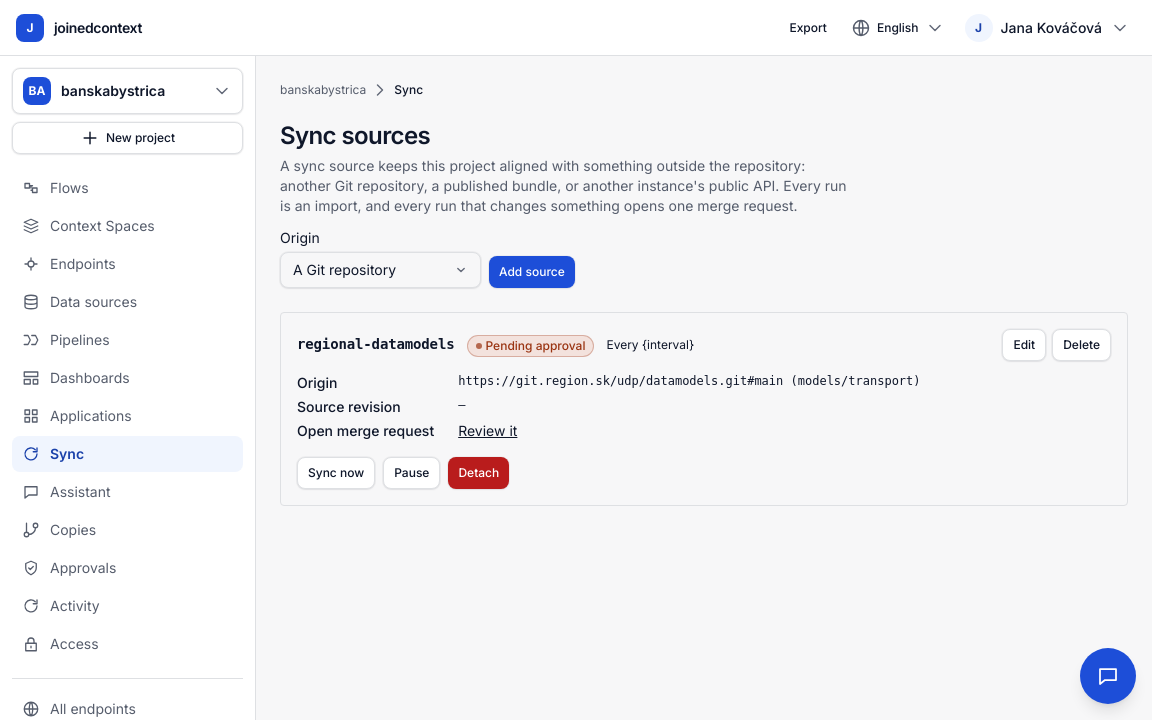
Test: sync sources view › runs one source when Sync now is pressed, and says a quiet run changed nothing
The image size is (1152, 720).
Expected: the heading "regional-datamodels" is shown, [297,334,454,354]
Click the button "Sync now".
click(336, 473)  # box [297,457,375,489]
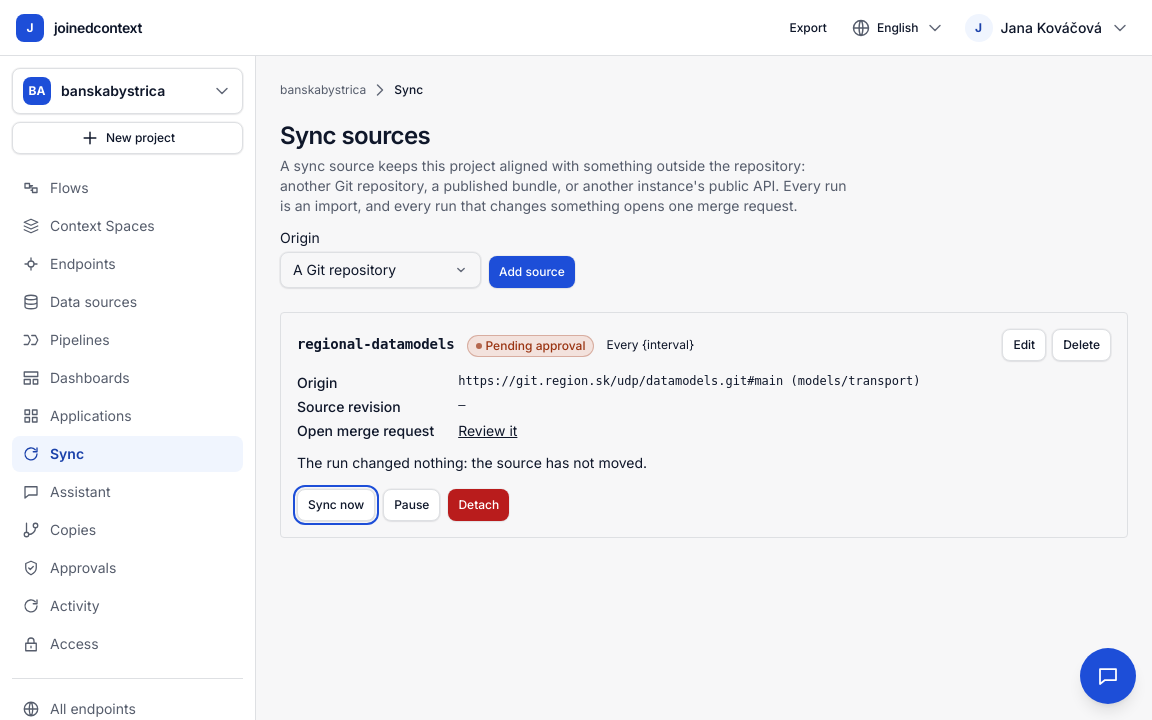
Now the text "The run changed nothing: the source has not moved." is shown, box [297,454,647,471]
